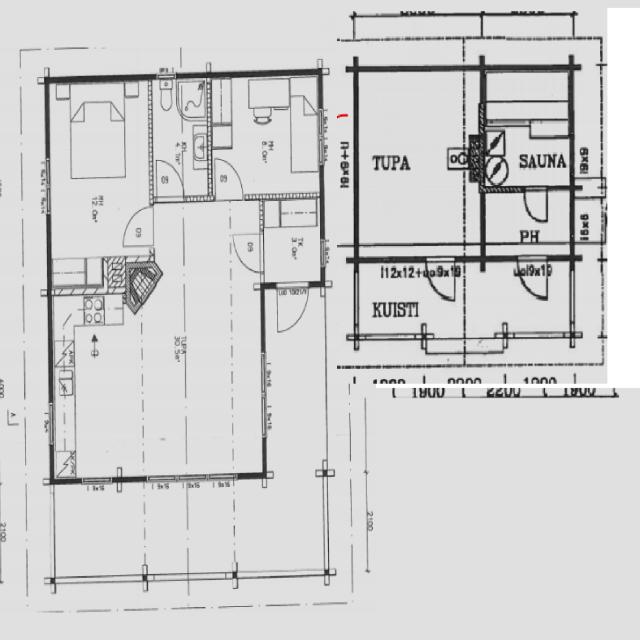door: (273, 280, 310, 336), (516, 254, 552, 302), (120, 202, 156, 250), (425, 255, 459, 304), (230, 230, 266, 276), (211, 156, 247, 202), (152, 156, 186, 204), (522, 184, 551, 227)
window: (255, 348, 272, 442), (360, 330, 418, 348), (41, 152, 54, 222), (350, 266, 363, 335), (315, 105, 329, 169), (566, 267, 579, 329), (78, 472, 117, 490), (45, 397, 58, 450), (145, 472, 179, 490), (203, 471, 237, 486), (318, 236, 328, 272), (154, 70, 178, 83)
zone: (355, 66, 478, 255), (46, 82, 152, 273), (53, 294, 145, 482), (210, 76, 322, 200), (482, 68, 573, 189), (152, 76, 211, 202), (354, 260, 434, 340), (480, 187, 572, 256), (259, 200, 323, 287), (272, 266, 313, 336), (118, 202, 158, 250), (210, 155, 247, 202)
